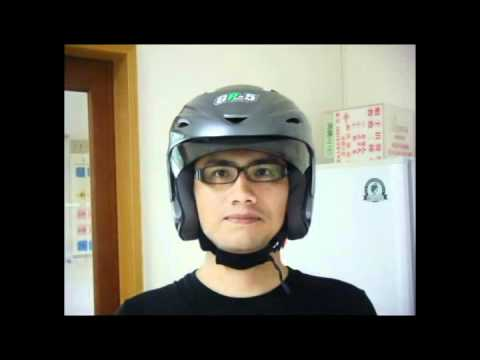helmet: (162, 89, 316, 181)
